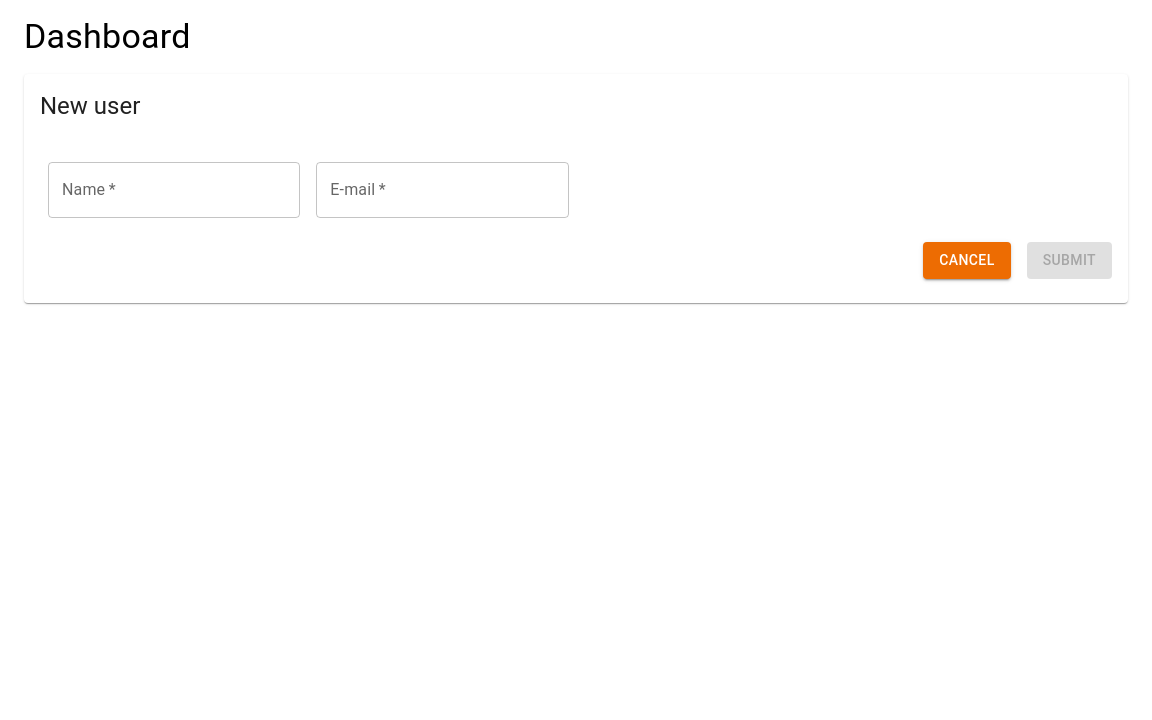
it: UserDetails › Should add a new user
The width and height of the screenshot is (1152, 720).
Type "Test User" into the field with test id "NameInput" at (174, 190), box [48, 162, 300, 218]
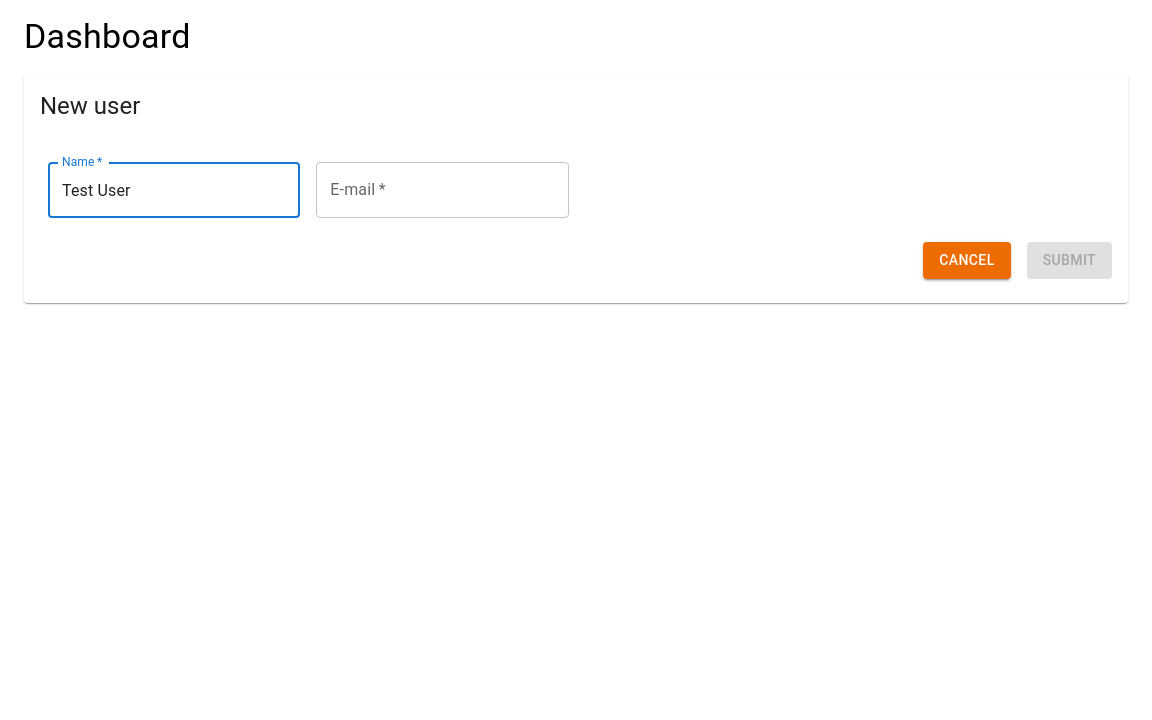
Type "test.user@someemail.com" into the field with test id "EmailInput" at (442, 190), box [316, 162, 569, 218]
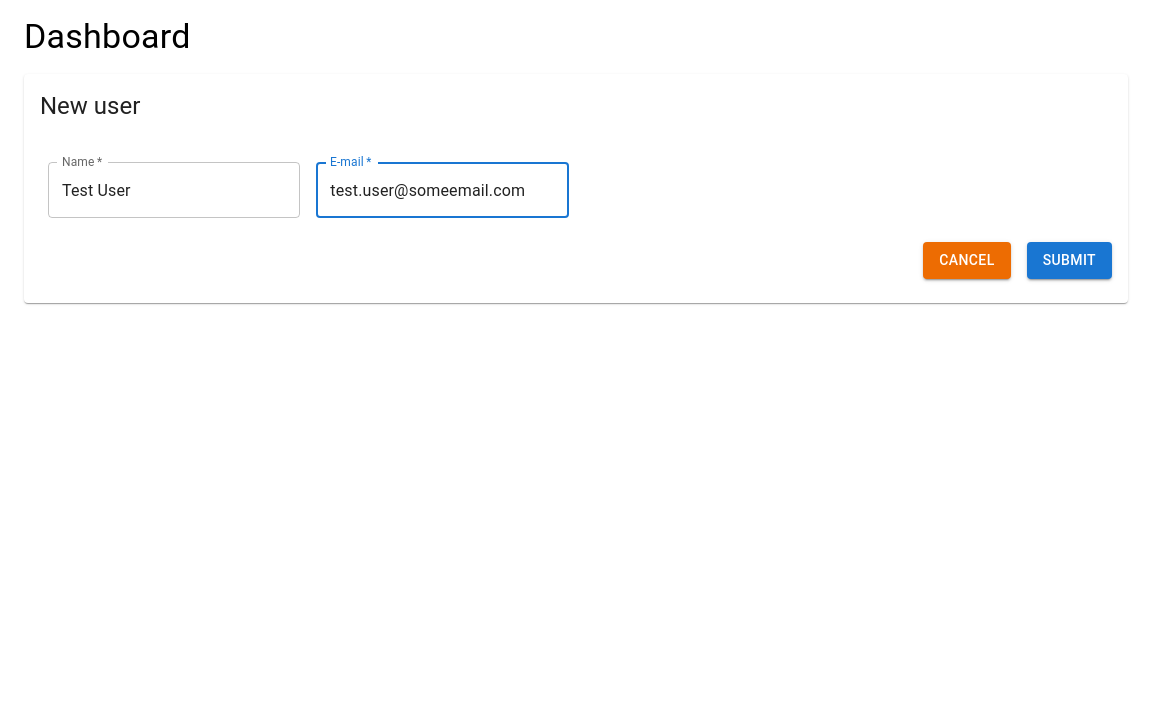
Result: the button with test id "SubmitUserButton" is enabled
Click the button with test id "SubmitUserButton" at (1069, 260), box [1027, 242, 1112, 278]
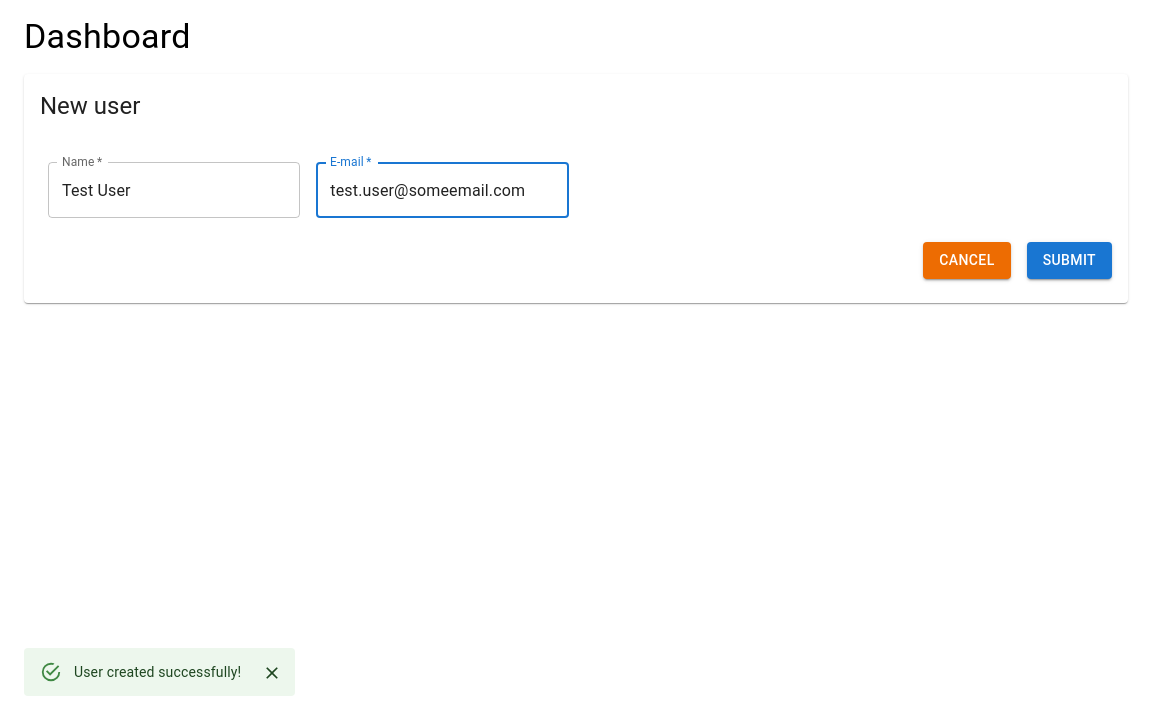
Result: the text "User created successfully!" is shown at [74, 664, 241, 680]
